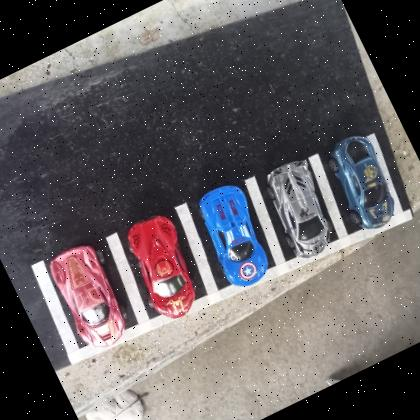Car: (116, 208, 212, 326), (186, 178, 282, 296), (44, 239, 136, 355), (256, 153, 346, 263), (320, 129, 408, 235)
